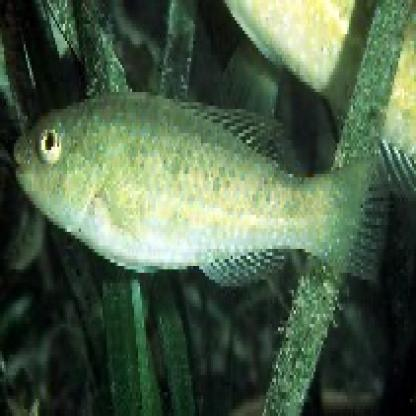Scaridae -Parrotfishes-: (11, 73, 391, 315)
